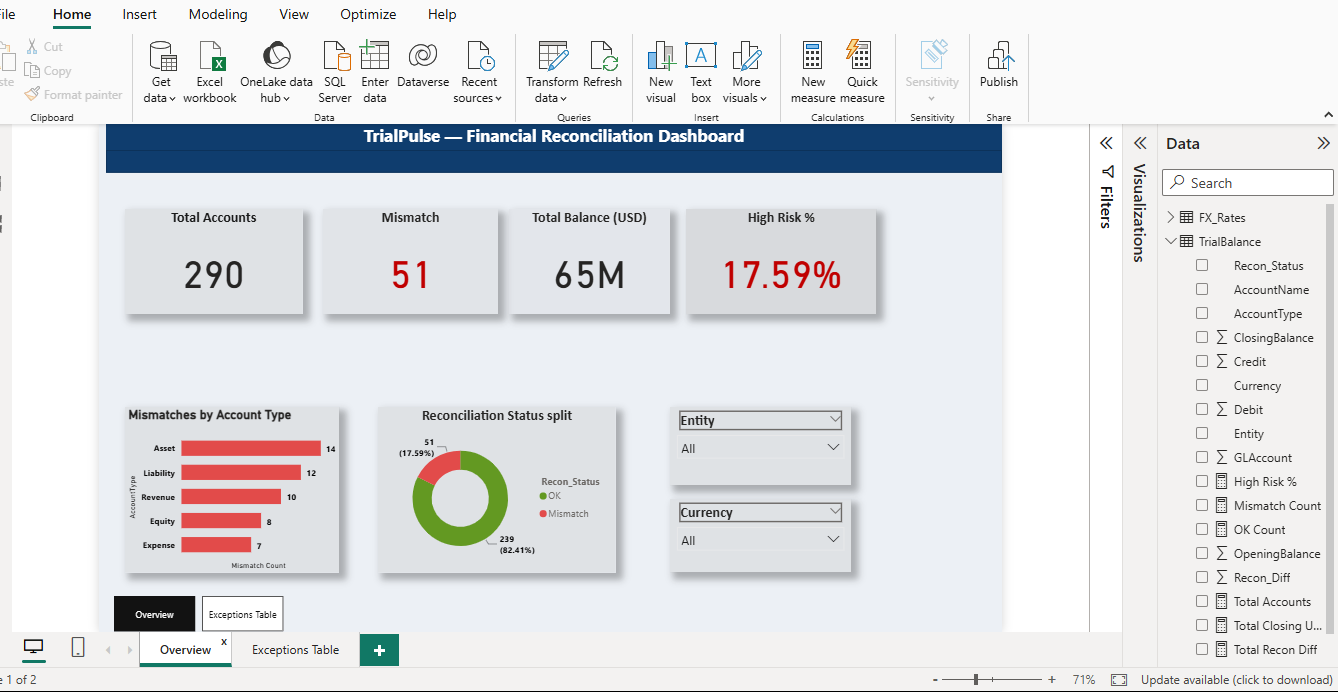

Layout of this report page (visuals, bound fields, positions):
{"tool":"powerbi","page":{"name":"Overview","canvas":[1280,720],"ordinal":0},"visuals":[{"type":"shape","title":"TrialPulse — Financial Reconciliation Dashboard","box":[10.1,0,1269.9,68.8],"z":0},{"type":"card","title":"Total Balance (USD)","fields":{"Values":["TrialBalance.Total Closing USD"]},"box":[580.4,120.8,228.2,149.3],"z":2},{"type":"card","title":"High Risk %","fields":{"Values":["TrialBalance.High Risk %"]},"box":[832.1,120.8,270.1,149.3],"z":3},{"type":"card","title":"Total Accounts","fields":{"Values":["TrialBalance.Total Accounts"]},"box":[36.9,120.8,251.6,149.3],"z":4},{"type":"card","title":"Mismatch","fields":{"Values":["TrialBalance.Mismatch Count"]},"box":[317.1,120.8,248.3,149.3],"z":5},{"type":"clusteredBarChart","title":"Mismatches by Account Type","fields":{"Y":["TrialBalance.Mismatch Count"],"Category":["TrialBalance.AccountType"]},"box":[36.9,400.9,303.6,234.9],"z":6},{"type":"donutChart","title":"Reconciliation Status split","fields":{"Y":["TrialBalance.Total Accounts"],"Category":["TrialBalance. Recon_Status"]},"box":[395.9,400.9,337.2,234.9],"z":7},{"type":"slicer","title":"Entity","fields":{"Values":["TrialBalance.Entity"]},"box":[808.6,400.9,256.7,110.7],"z":8},{"type":"slicer","title":"Entity","fields":{"Values":["TrialBalance.Currency"]},"box":[808.6,531.8,256.7,104],"z":9},{"type":"pageNavigator","box":[21.8,669.4,241.6,50.3],"z":10}]}

Visuals, with their boxes on the page's 1280x720 design canvas (x1, y1, x2, y2). These are canvas units, not pixel positions in the 1338x692 screenshot, which may show the page scaled, cropped or inside an application window:
"TrialPulse — Financial Reconciliation Dashboard" shape: 10:0:1280:69
"Total Balance (USD)" card: 580:121:809:270
"High Risk %" card: 832:121:1102:270
"Total Accounts" card: 37:121:288:270
"Mismatch" card: 317:121:565:270
"Mismatches by Account Type" clusteredBarChart: 37:401:340:636
"Reconciliation Status split" donutChart: 396:401:733:636
"Entity" slicer: 809:401:1065:512
"Entity" slicer: 809:532:1065:636
pageNavigator: 22:669:263:720
